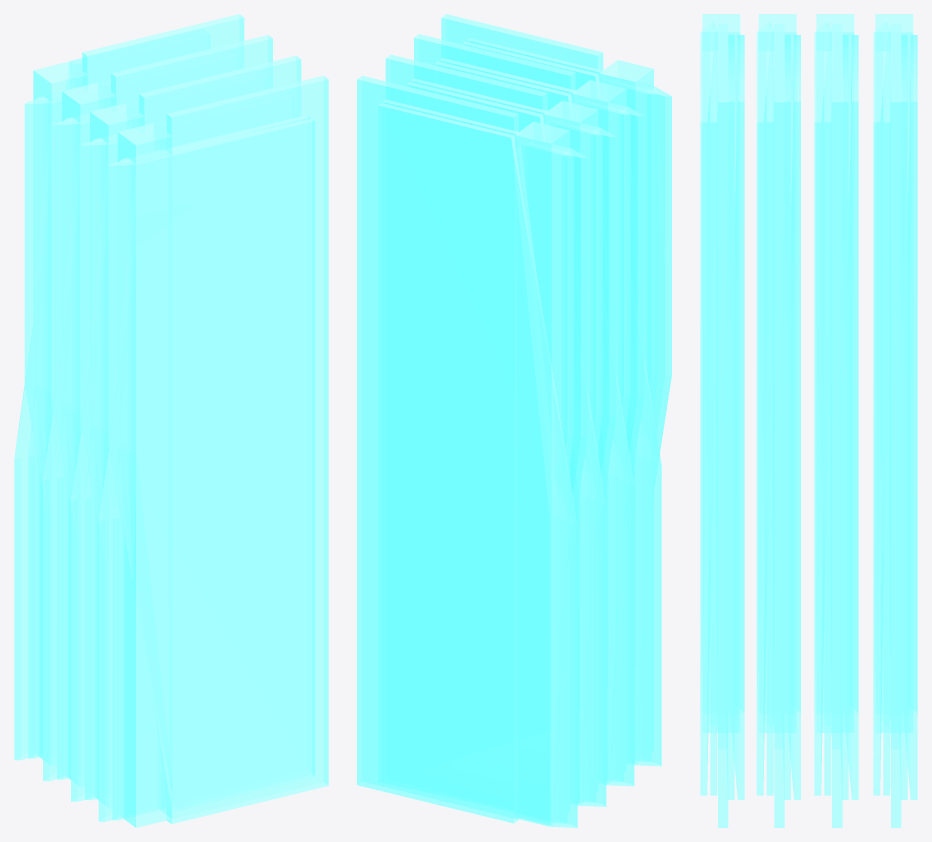
File: ghost_ram_final.glb
The picture shows the model from 3 angles, left to right: view 1: azimuth 30°, elevation 25°; view 2: azimuth 150°, elevation 25°; view 3: azimuth 270°, elevation 25°; orthographic projection. The views are drawn at different scales.
Parts seen in each view (by area): view 1: GHOST_RAM; view 2: GHOST_RAM; view 3: GHOST_RAM.
Part boxes in pixels (x1,y1,x2,y2): GHOST_RAM: (14,14,328,827); GHOST_RAM: (357,14,671,827); GHOST_RAM: (700,14,917,827).
Bounding box in the file's own units: 0.0447 × 0.1353 × 0.0367.
